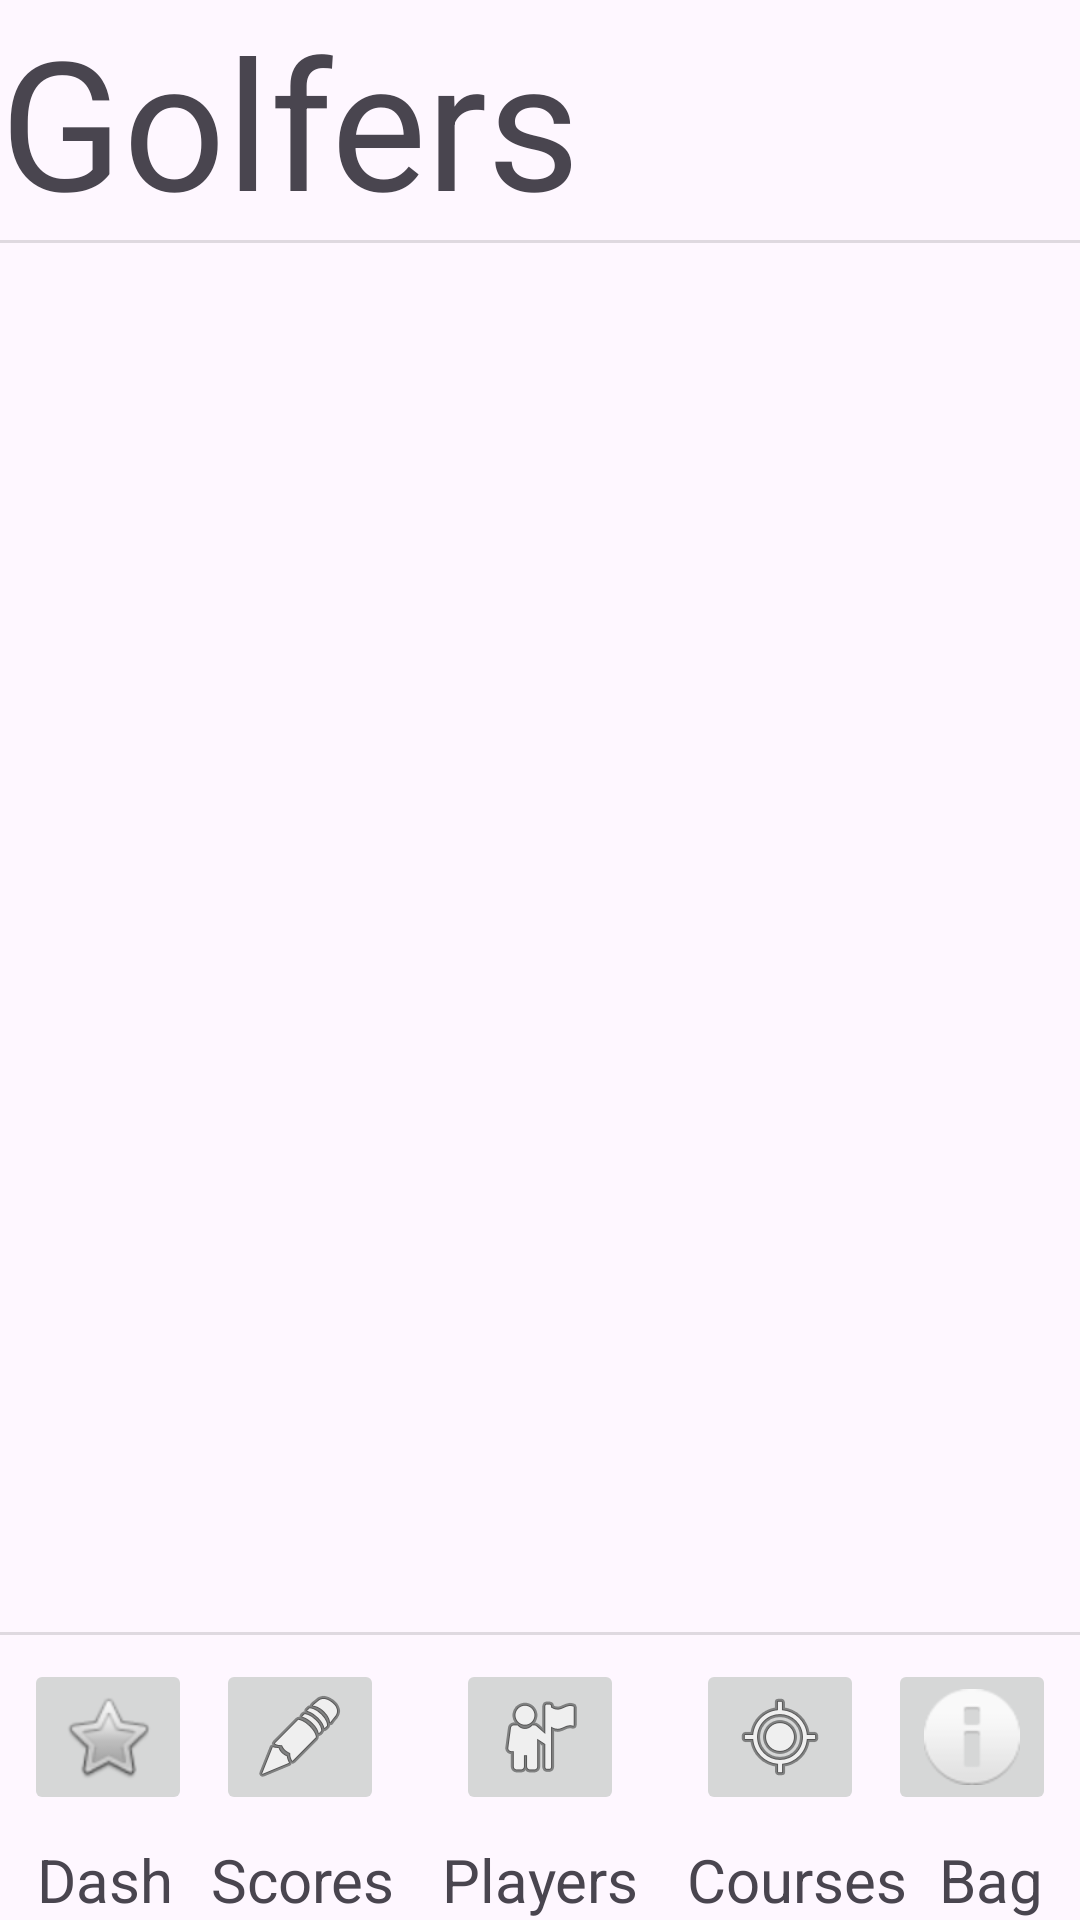

Where to tap for icons on this 1080 × 1920 app screen, as (x=x, y=y):
edit: (x=300, y=1737)
info: (x=972, y=1737)
mylocation: (x=780, y=1737)
myplaces: (x=540, y=1737)
star: (x=108, y=1737)
